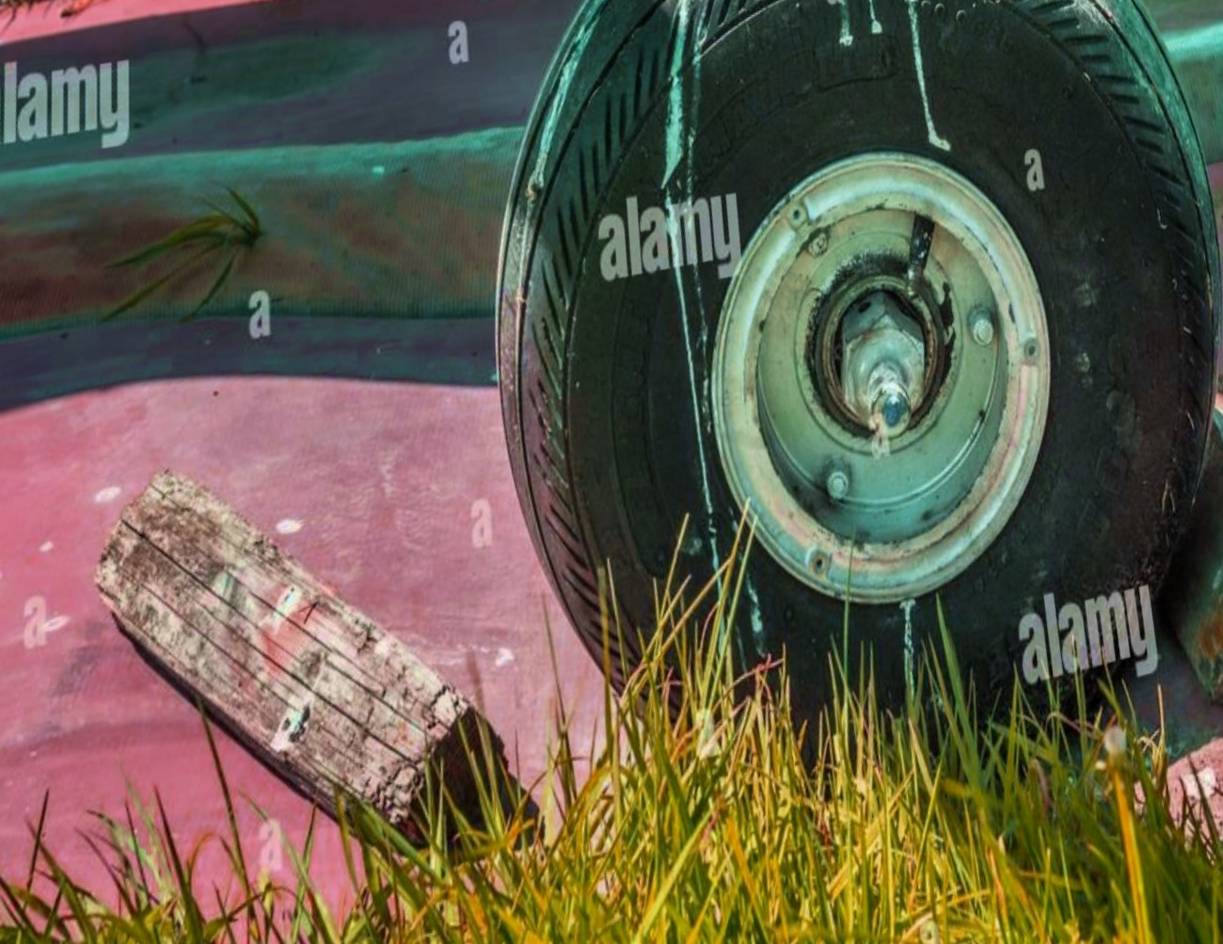chock: (0, 337, 572, 944), (1120, 308, 1223, 747)
wheel: (329, 0, 1223, 879)
